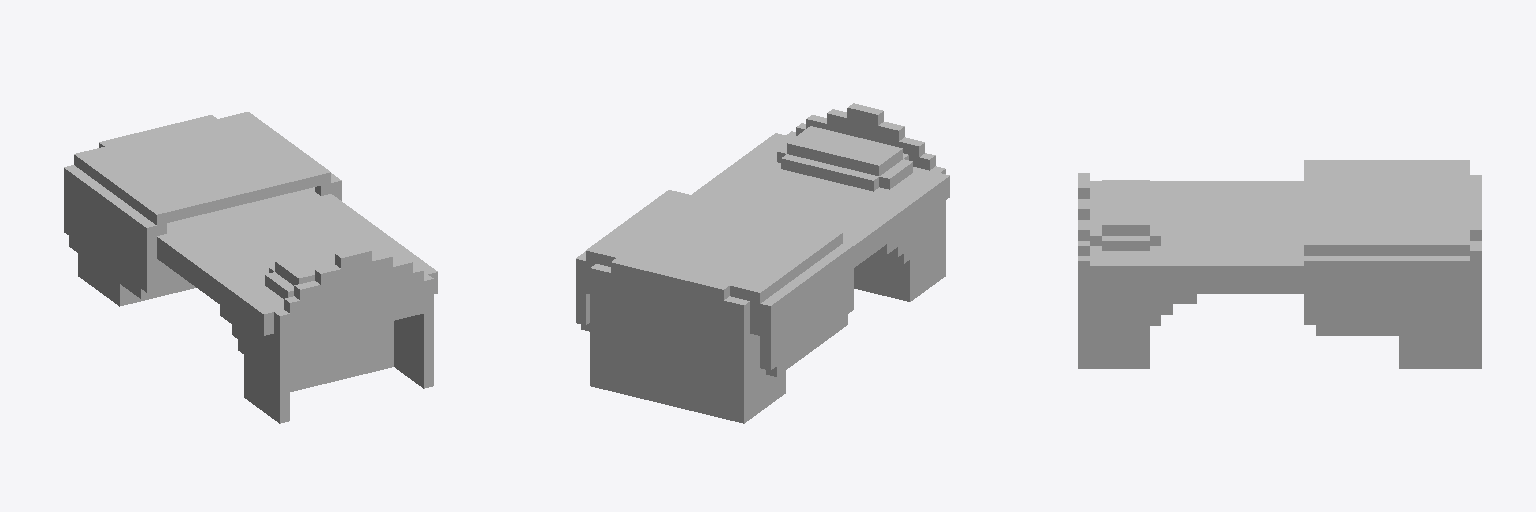
Rendered from ship-0.obj.
The picture shows the model from 3 angles: view 1: azimuth 30°, elevation 25°; view 2: azimuth 150°, elevation 25°; view 3: azimuth 270°, elevation 25°; orthographic projection.
Parts seen in each view (by area): view 1: object 1; view 2: object 1; view 3: object 1.
Boxes of the visible parts, x1,y1,x2,y2 form: object 1: [64, 112, 437, 423]; object 1: [576, 103, 949, 423]; object 1: [1078, 160, 1481, 368].
Bounding box in the file's own units: 1.9 × 1.4 × 3.4.